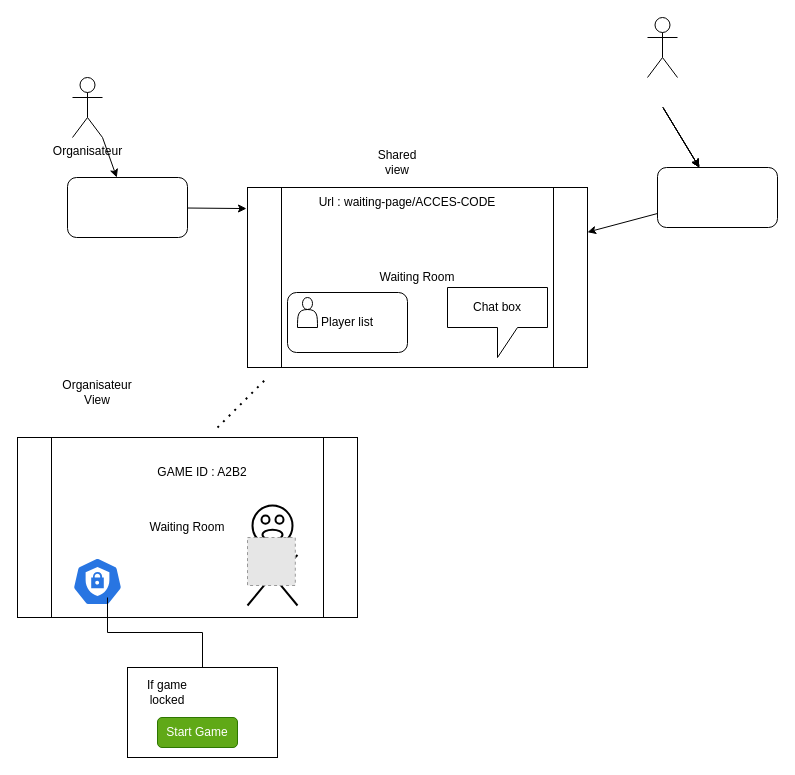
This 795x775 diagram has some shape labels left out. Grey dashed boxes stand in for pictures. Here are the shapes that lost their labels. From the top down, the centre of each, then its label:
pixel 662 47: Player
pixel 127 207: Create Game
pixel 717 197: Join Game
